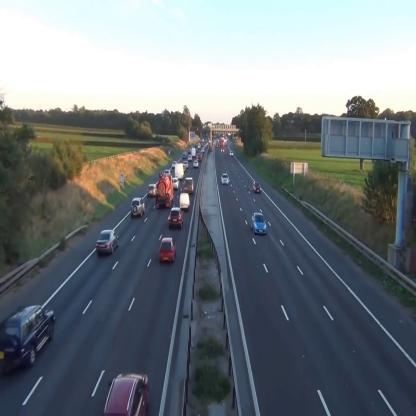car: (0, 305, 56, 366), (102, 372, 149, 416), (96, 230, 120, 255), (160, 238, 176, 264), (252, 212, 266, 235), (169, 208, 184, 228), (131, 198, 145, 217), (184, 177, 194, 193), (148, 184, 157, 196), (172, 177, 180, 189), (221, 173, 229, 185), (253, 181, 261, 193), (193, 160, 198, 168)
lorry: (156, 175, 173, 207), (179, 193, 191, 212), (175, 163, 184, 178)
